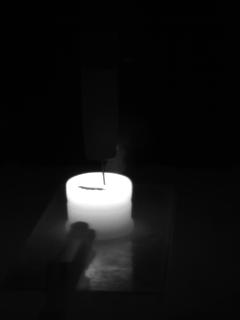tip_wire_left: (86, 155, 106, 187)
tip_wire_right: (103, 155, 117, 187)
